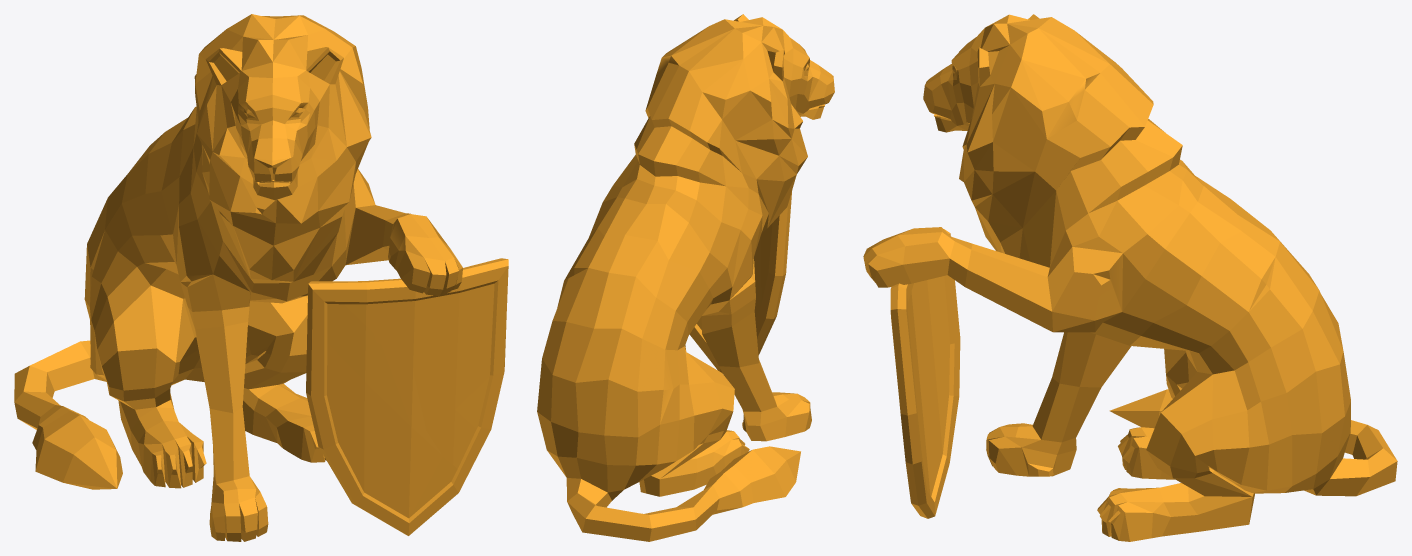
File: SM_Statue_Lion_A_Fantasy.fbx
The picture shows the model from 3 angles, left to right: view 1: azimuth 30°, elevation 25°; view 2: azimuth 150°, elevation 25°; view 3: azimuth 270°, elevation 25°; orthographic projection. The views are drawn at different scales.
Visible parts, largest first — view 1: SM_Statue_Lion_Fantasy_A; view 2: SM_Statue_Lion_Fantasy_A; view 3: SM_Statue_Lion_Fantasy_A.
Boxes of the visible parts, bbox=[...] form: SM_Statue_Lion_Fantasy_A: bbox=[14, 14, 508, 541]; SM_Statue_Lion_Fantasy_A: bbox=[537, 14, 834, 541]; SM_Statue_Lion_Fantasy_A: bbox=[863, 14, 1397, 541].
Bounding box in the file's own units: 1.5 × 2.29 × 2.39.
